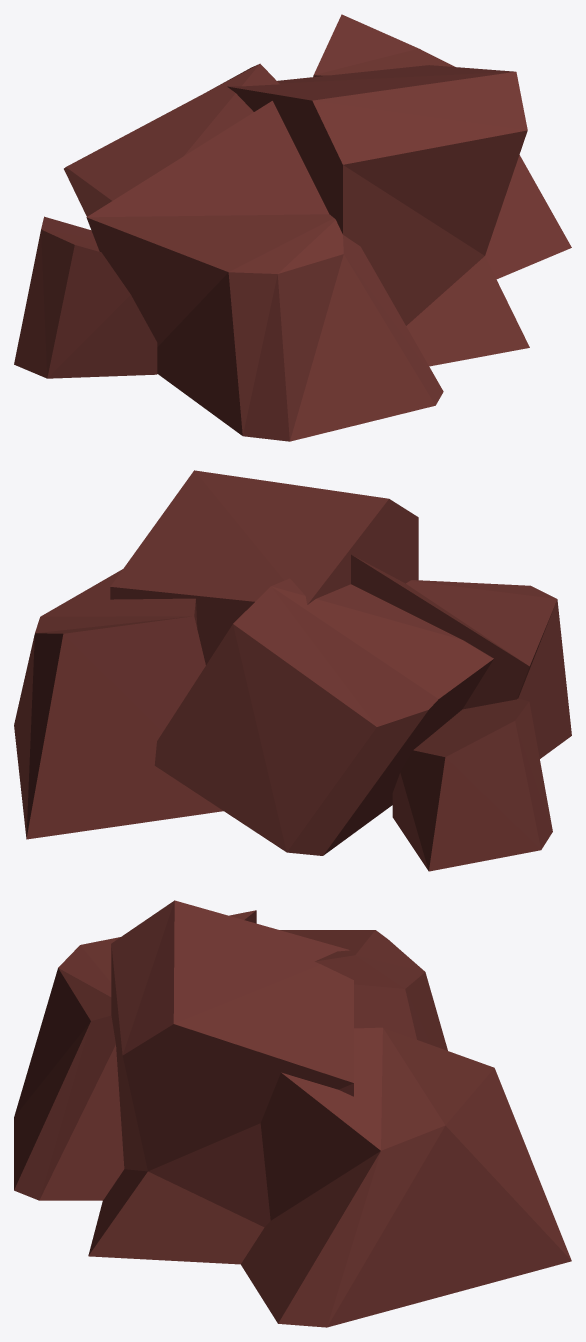
File: Rock_14_Red.fbx
The picture shows the model from 3 angles, top to bottom: view 1: azimuth 30°, elevation 25°; view 2: azimuth 150°, elevation 25°; view 3: azimuth 270°, elevation 25°; orthographic projection. The views are drawn at different scales.
Parts seen in each view (by area): view 1: Rock_14_Red; view 2: Rock_14_Red; view 3: Rock_14_Red.
Part boxes in pixels (x1,y1,x2,y2): Rock_14_Red: (14, 14, 571, 441); Rock_14_Red: (14, 470, 571, 871); Rock_14_Red: (14, 900, 571, 1327).
Size of the model in its own units: 268 by 122 by 230.
